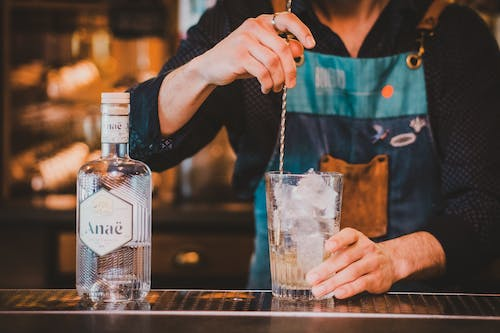alcohol: (75, 92, 152, 302), (263, 171, 345, 303)
